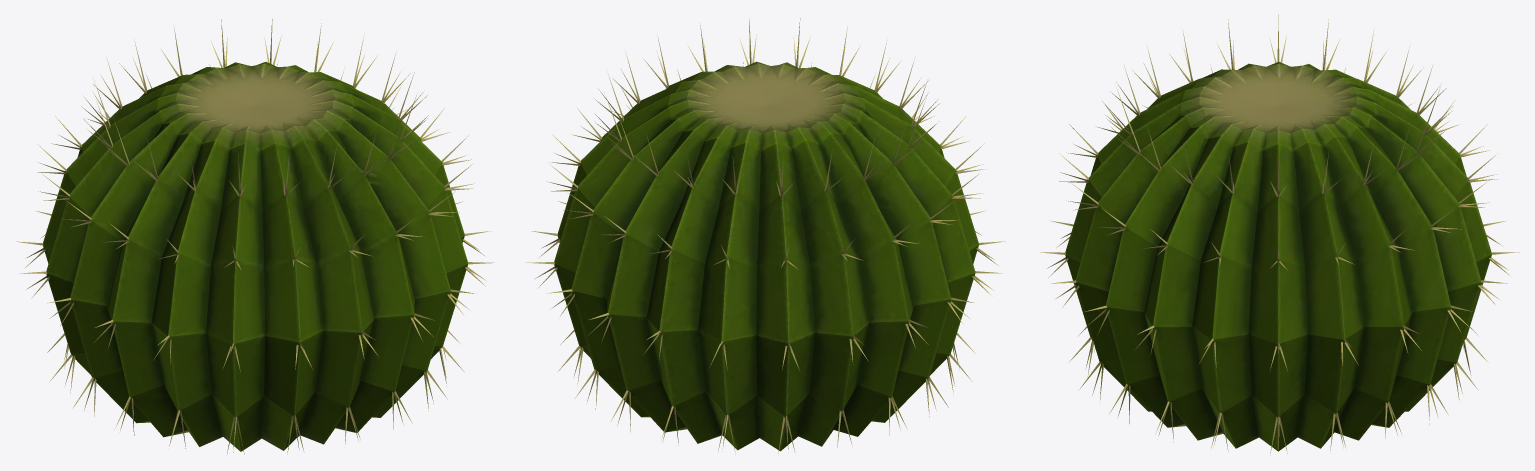
The model's file is 5-hrumGDq1K.glb.
3 renders of one model, left to right at view 1: azimuth 30°, elevation 25°; view 2: azimuth 150°, elevation 25°; view 3: azimuth 270°, elevation 25°, orthographic.
Parts seen in each view (by area): view 1: BarrelCactus_mesh; view 2: BarrelCactus_mesh; view 3: BarrelCactus_mesh.
Part boxes in pixels (x1,y1,x2,y2): BarrelCactus_mesh: (16,19,493,454); BarrelCactus_mesh: (526,18,1005,453); BarrelCactus_mesh: (1040,14,1519,455).
Bounding box in the file's own units: 1.38 × 1 × 1.38.
Materials: 1 (1 with a texture image).
